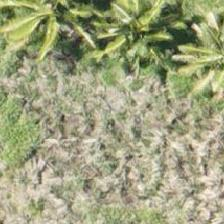coconut_tree: (95, 0, 185, 79), (6, 0, 96, 49)
